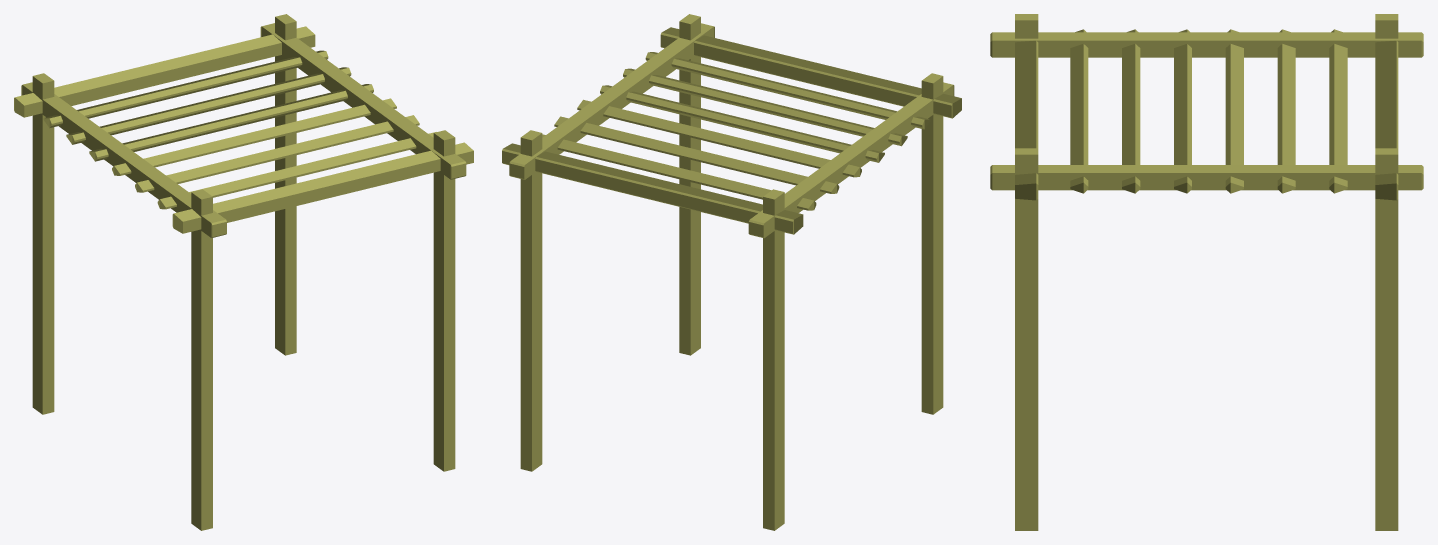
File: P_Tejadito_Varillas_LOD1.fbx
3 renders of one model, left to right at view 1: azimuth 30°, elevation 25°; view 2: azimuth 150°, elevation 25°; view 3: azimuth 270°, elevation 25°, orthographic. The views are drawn at different scales.
Parts seen in each view (by area): view 1: polySurface20; view 2: polySurface20; view 3: polySurface20.
Part boxes in pixels (bbox=[...]): polySurface20: bbox=[14, 14, 473, 530]; polySurface20: bbox=[502, 14, 961, 530]; polySurface20: bbox=[990, 14, 1423, 530].
Size of the model in its own units: 364 by 396 by 413.
